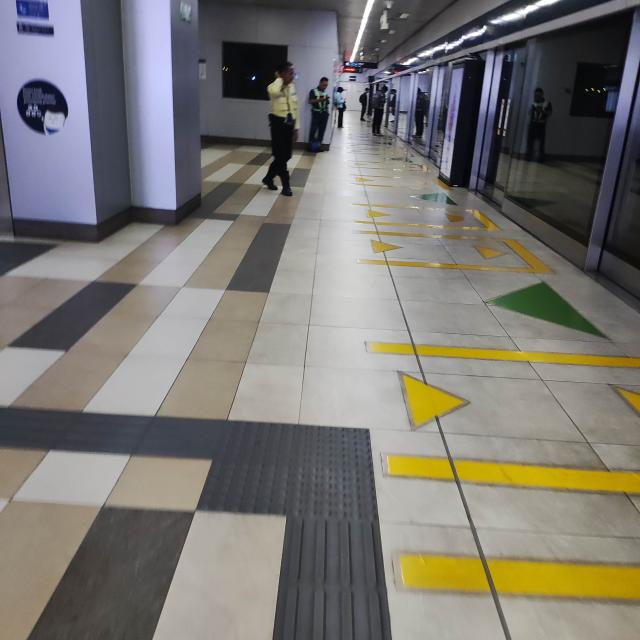kiri: (61, 374, 425, 618)
